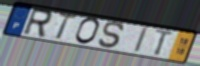I: (132, 26, 150, 54)
O: (74, 17, 102, 46)
R: (21, 7, 54, 40)
S: (97, 21, 127, 50)
T: (54, 12, 78, 41), (153, 28, 176, 57)
